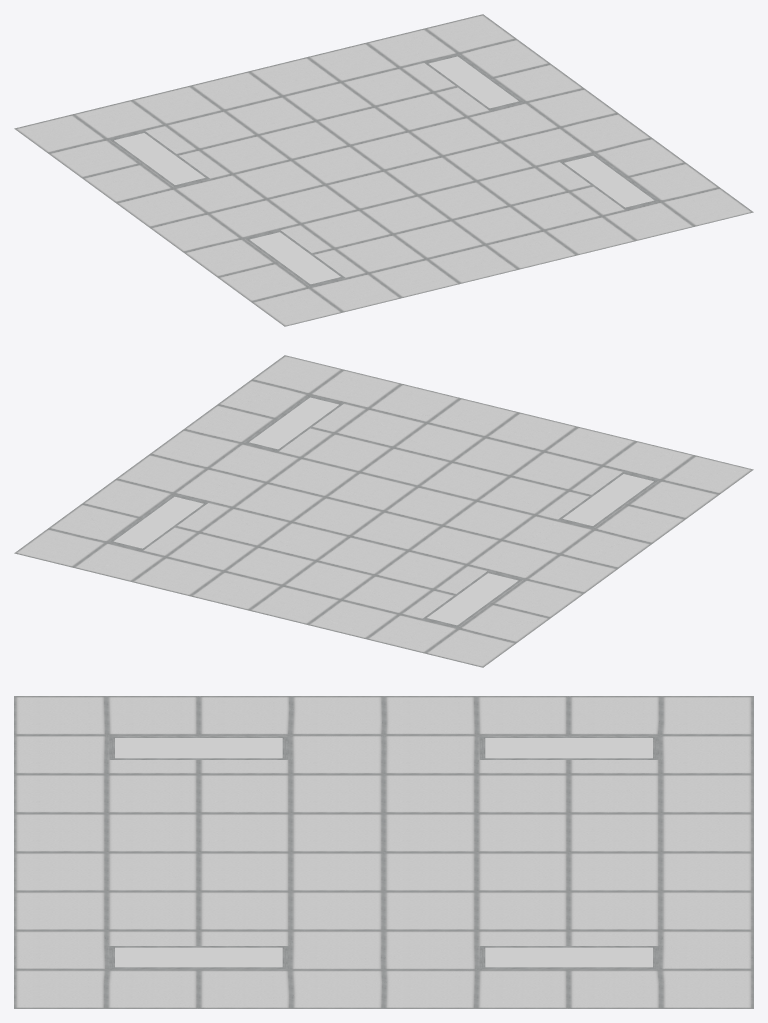
The model's file is Office_Plafond_Short.fbx.
3 views of the same model, one above another, from view 1: azimuth 30°, elevation 25°; view 2: azimuth 150°, elevation 25°; view 3: azimuth 270°, elevation 25° (orthographic). The views are drawn at different scales.
Parts seen in each view (by area): view 1: Office_Plafond_Short; view 2: Office_Plafond_Short; view 3: Office_Plafond_Short.
Boxes of the visible parts, x1,y1,x2,y2 form: Office_Plafond_Short: [14, 14, 753, 326]; Office_Plafond_Short: [14, 355, 753, 667]; Office_Plafond_Short: [14, 696, 753, 1008].
Bounding box in the file's own units: 400 × 0 × 400.
